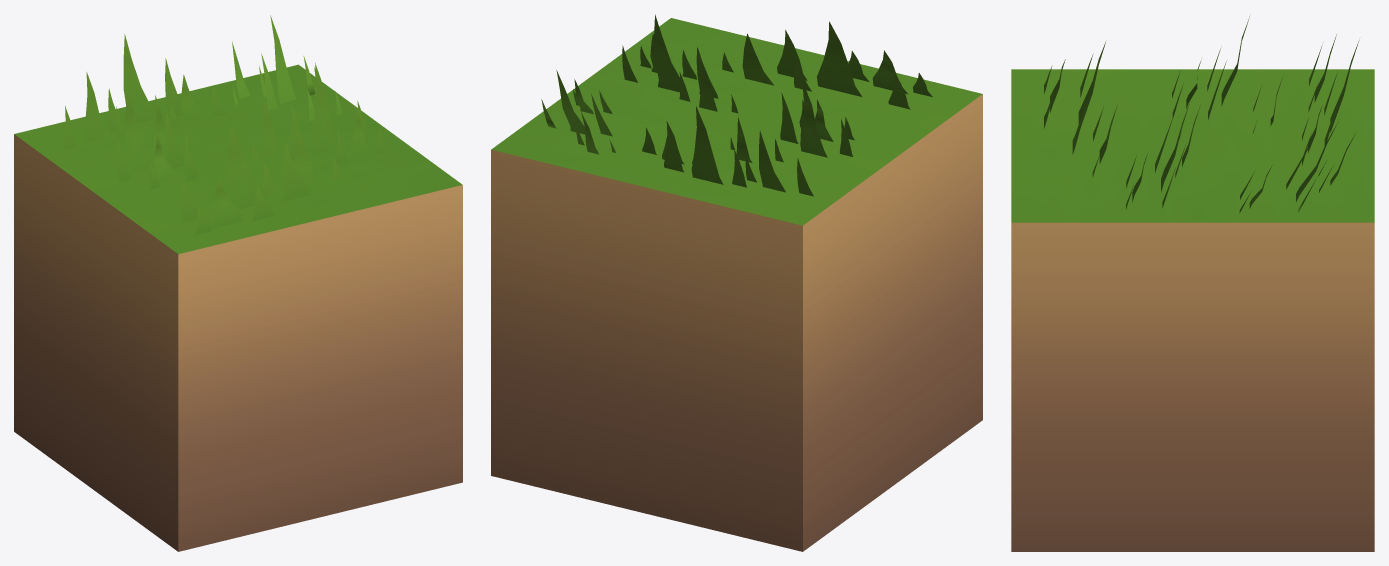
Rendered from medium tile.fbx.
3 views of the same model, side by side, from view 1: azimuth 30°, elevation 25°; view 2: azimuth 150°, elevation 25°; view 3: azimuth 270°, elevation 25° (orthographic). The views are drawn at different scales.
Parts seen in each view (by area): view 1: m_tile, m_grass; view 2: m_tile, m_grass; view 3: m_tile, m_grass.
Boxes of the visible parts, x1,y1,x2,y2 form: m_tile: [14, 64, 462, 551]; m_grass: [63, 15, 386, 235]; m_tile: [491, 18, 982, 551]; m_grass: [541, 14, 932, 196]; m_tile: [1011, 69, 1374, 551]; m_grass: [1044, 16, 1359, 212].
Bounding box in the file's own units: 10 × 12.69 × 10.
